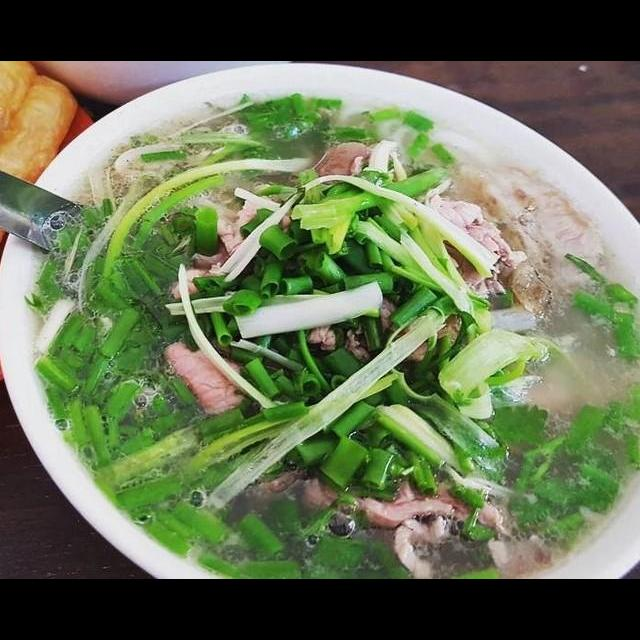thit bo: (398, 166, 610, 317), (291, 462, 518, 540), (408, 180, 530, 305), (168, 189, 296, 304), (302, 289, 468, 367), (158, 333, 270, 419), (384, 507, 456, 579)
